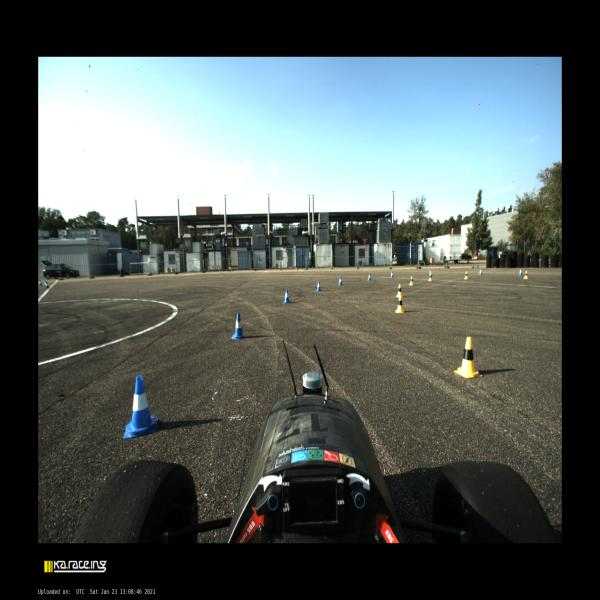blue_cone: (123, 376, 158, 440), (232, 312, 246, 340), (284, 288, 290, 302), (316, 281, 321, 291), (338, 276, 342, 286), (368, 273, 372, 280), (518, 269, 522, 275), (45, 282, 49, 288), (390, 271, 393, 278), (479, 269, 482, 275), (429, 270, 432, 276), (39, 280, 42, 286)
yellow_cone: (455, 337, 482, 378), (395, 297, 404, 313), (397, 284, 403, 297), (524, 270, 528, 280), (464, 271, 468, 280), (409, 276, 413, 285), (429, 274, 432, 281)
